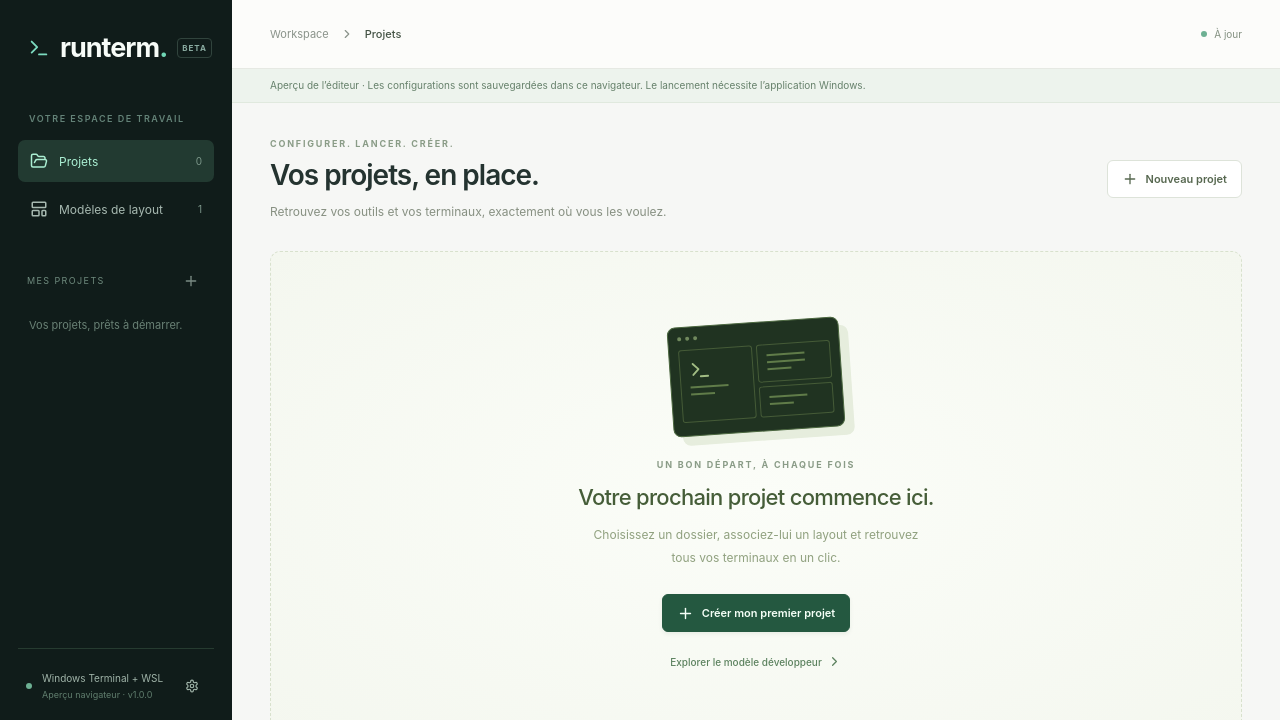
Scenario: affiche la version de l’application dans les paramètres
What coordinates should you click on to do the following:
click the button named "Paramètres"
I would click on:
 (192, 686)
Its box is [177,671,206,700].
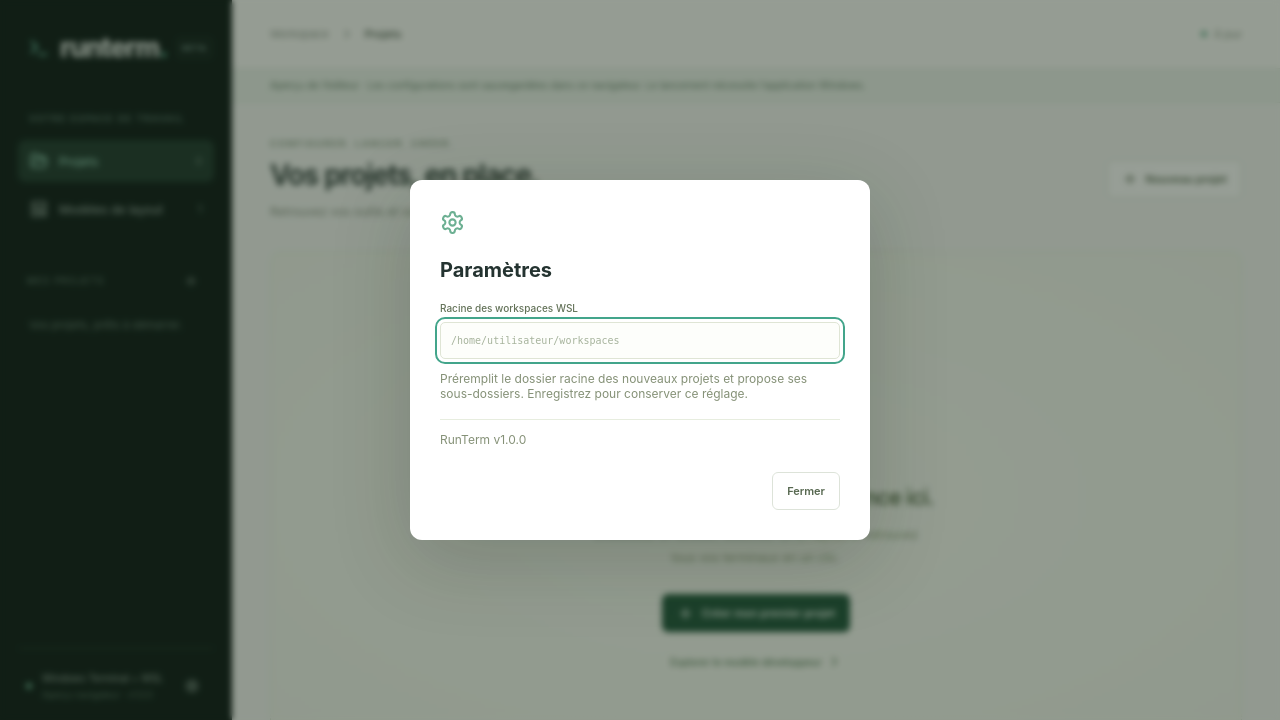
Check: the text "RunTerm v1.0.0" is shown, box [440,419,840,447]
